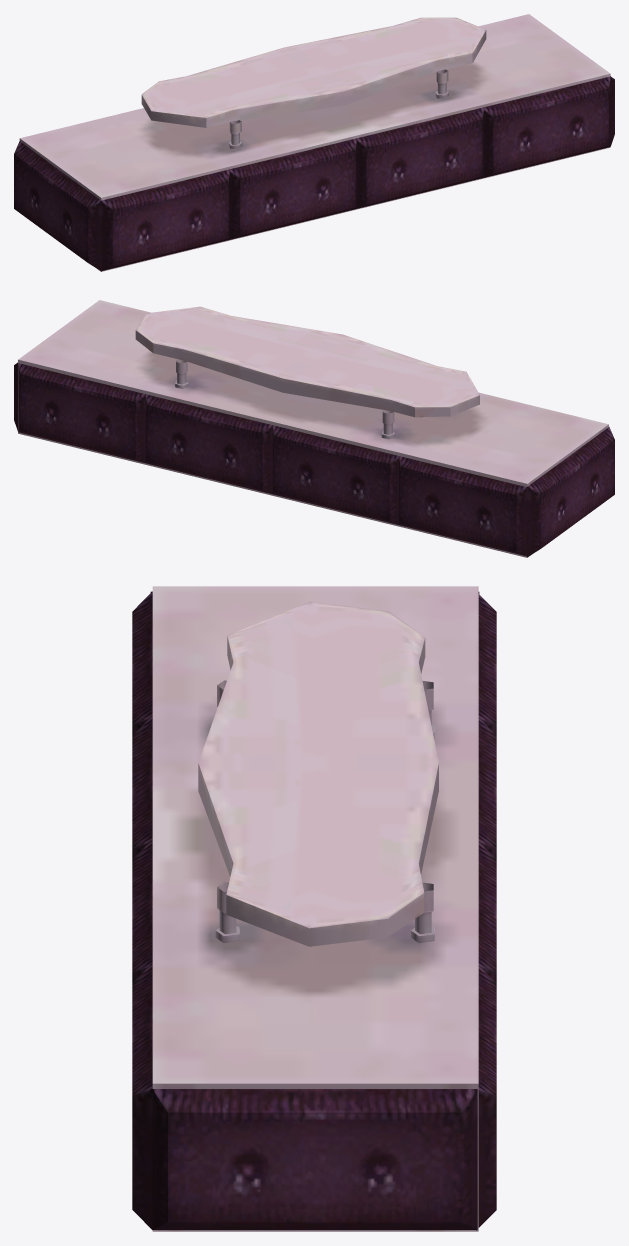
File: furni_0200081_02.FBX
3 views of the same model, one above another, from view 1: azimuth 30°, elevation 25°; view 2: azimuth 150°, elevation 25°; view 3: azimuth 270°, elevation 25° (orthographic). The views are drawn at different scales.
Visible parts, largest first — view 1: furni_0200081_02; view 2: furni_0200081_02; view 3: furni_0200081_02.
Part boxes in pixels (box(x1,y1,x2,y2)): furni_0200081_02: box(14, 14, 614, 271); furni_0200081_02: box(14, 300, 614, 557); furni_0200081_02: box(132, 586, 496, 1231).
Size of the model in its own units: 248 by 49.56 by 74.34.
1 material, 1 textured.
